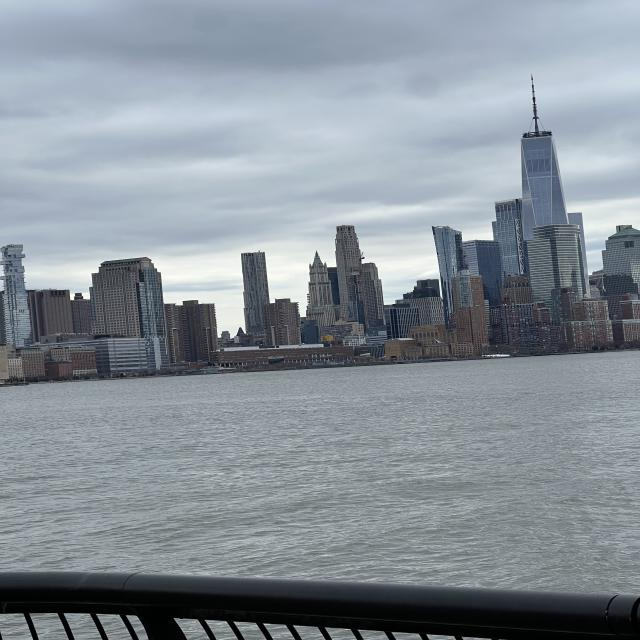WTC: (518, 74, 567, 232)
